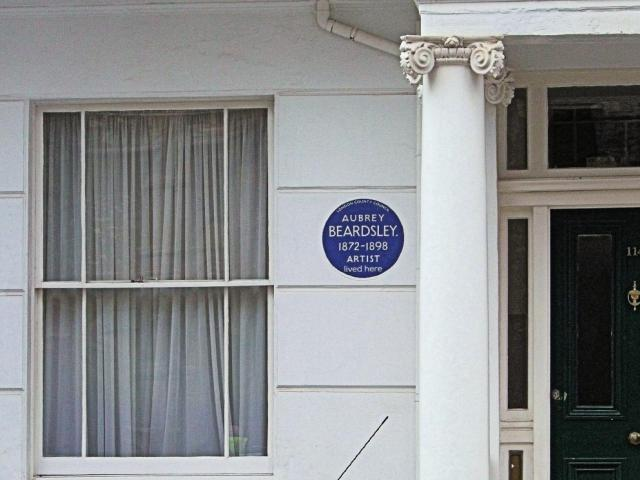Door-handle: (626, 281, 640, 312), (628, 431, 640, 446)
